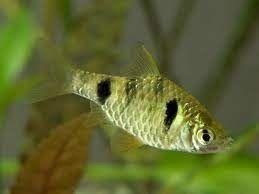Black Spotted Barb: (20, 33, 235, 158)
